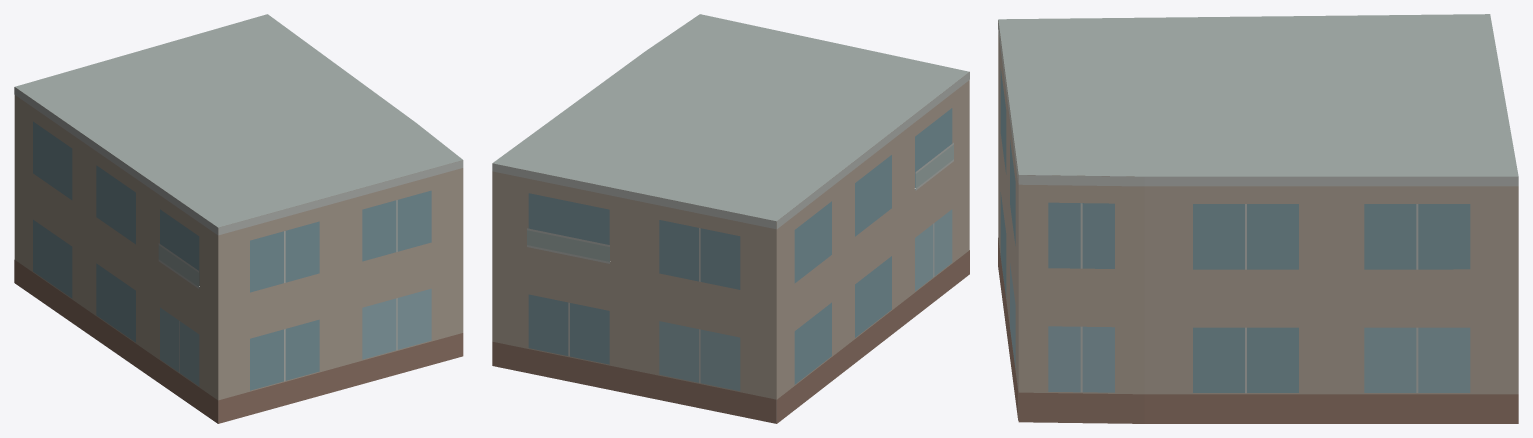
File: survey-upis-32458419.glb
3 renders of one model, left to right at view 1: azimuth 30°, elevation 25°; view 2: azimuth 150°, elevation 25°; view 3: azimuth 270°, elevation 25°, orthographic. The views are drawn at different scales.
Parts seen in each view (by area): view 1: survey-upis-32458419.tmp; view 2: survey-upis-32458419.tmp; view 3: survey-upis-32458419.tmp.
Boxes of the visible parts, box(x1,y1,x2,y2) form: survey-upis-32458419.tmp: box(14, 14, 463, 423); survey-upis-32458419.tmp: box(492, 14, 969, 423); survey-upis-32458419.tmp: box(998, 14, 1518, 423).
Size of the model in its own units: 8.61 by 6.1 by 11.65.
